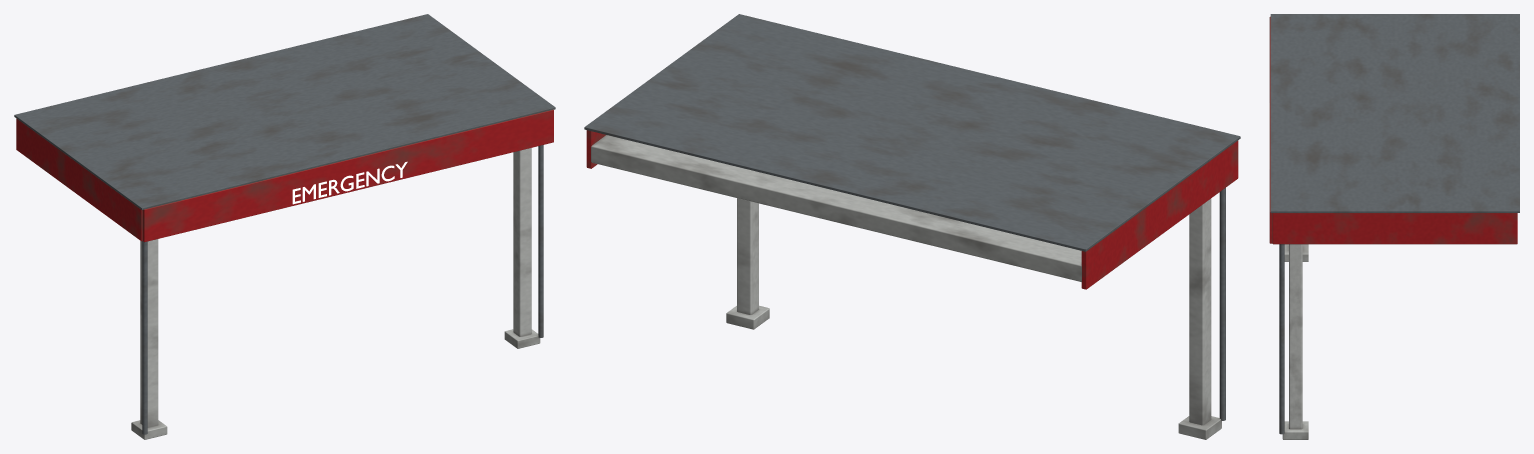
Rendered from szp_wiata.glb.
3 views of the same model, side by side, from view 1: azimuth 30°, elevation 25°; view 2: azimuth 150°, elevation 25°; view 3: azimuth 270°, elevation 25° (orthographic). The views are drawn at different scales.
Visible parts, largest first — view 1: Wiata, SwiatloNapis; view 2: Wiata; view 3: Wiata.
Boxes of the visible parts, x1=… form: Wiata: x1=14, y1=14, x2=555, y2=439; SwiatloNapis: x1=292, y1=161, x2=407, y2=204; Wiata: x1=584, y1=14, x2=1240, y2=439; Wiata: x1=1269, y1=14, x2=1519, y2=439.
Bounding box in the file's own units: 6.1 × 3.36 × 3.28.
3 materials, 1 textured.
